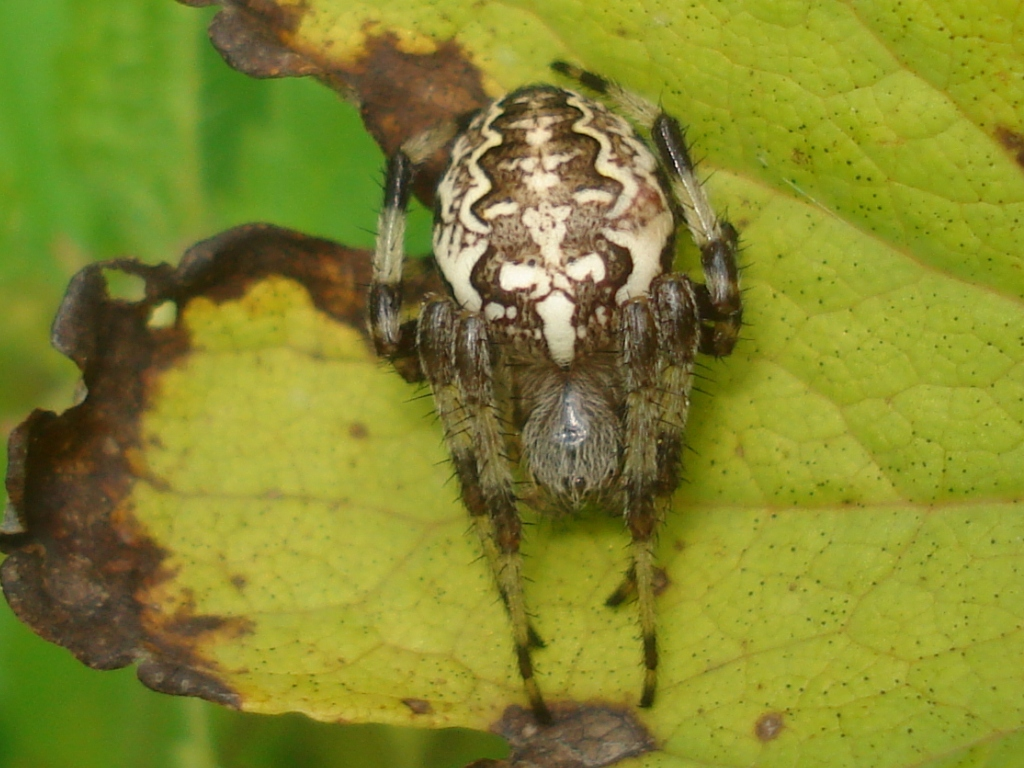spider: (363, 13, 759, 720)
